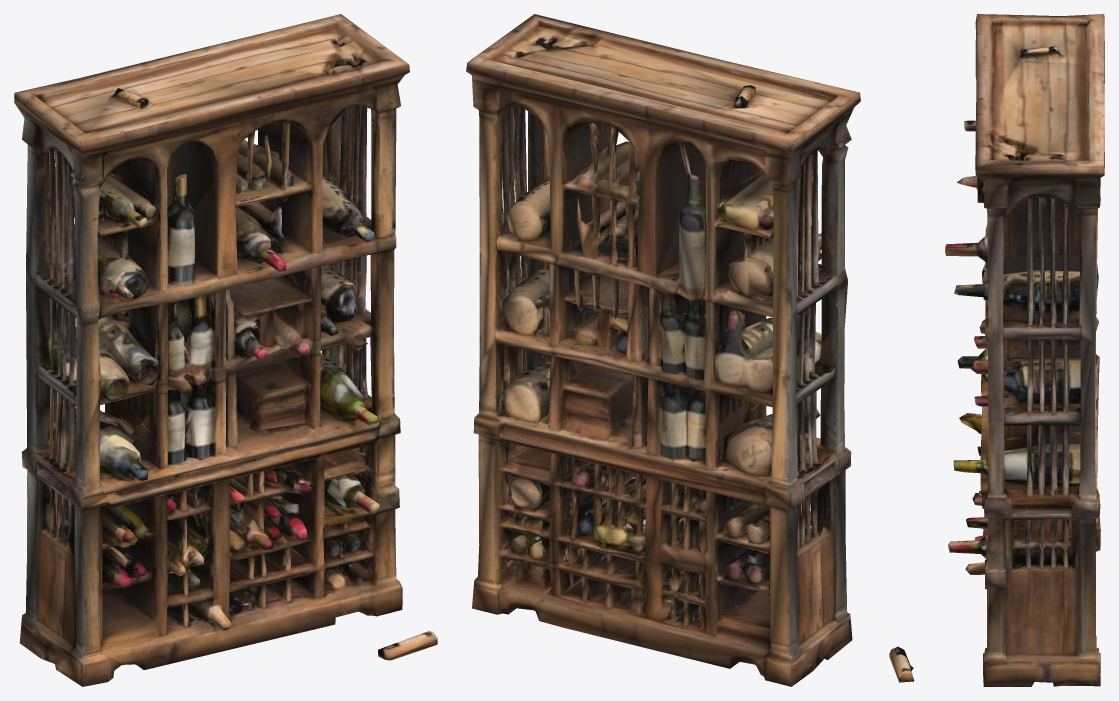
Rendered from cabinet.glb.
3 views of the same model, side by side, from view 1: azimuth 30°, elevation 25°; view 2: azimuth 150°, elevation 25°; view 3: azimuth 270°, elevation 25° (orthographic). The views are drawn at different scales.
Size of the model in its own units: 1.18 by 1.91 by 0.7094.
1 material, 1 textured.
